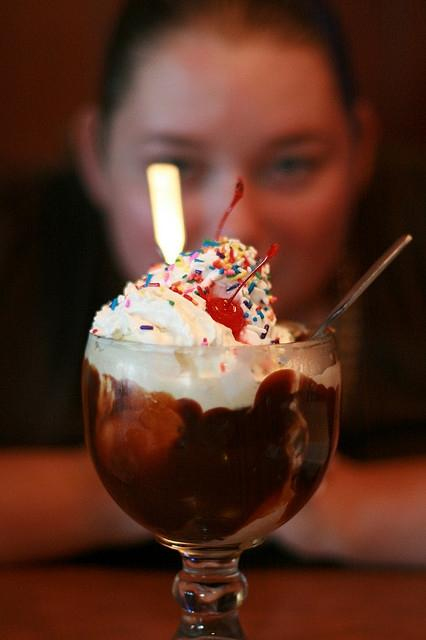cherry: (208, 244, 280, 334), (214, 176, 244, 242)
